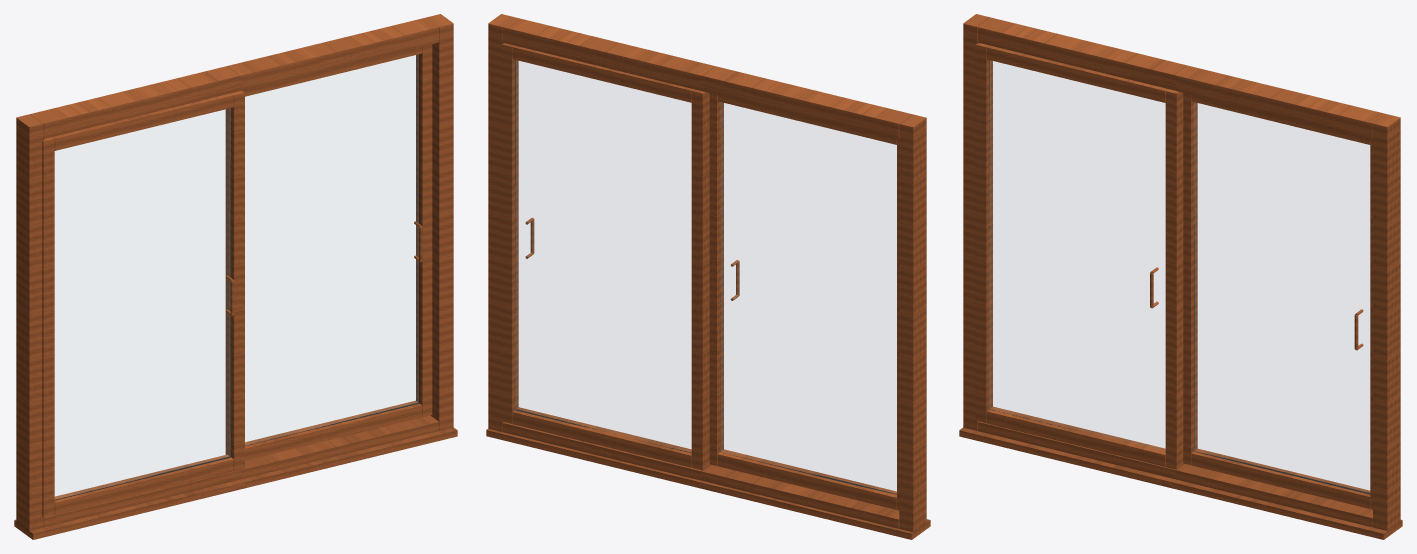
File: wood-finish-sliding-glass-window-06.glb
3 renders of one model, left to right at view 1: azimuth 30°, elevation 25°; view 2: azimuth 150°, elevation 25°; view 3: azimuth 330°, elevation 25°, orthographic.
Visible parts, largest first — view 1: Window / Sliding leaf 1 glass, Window / Sliding leaf 2 glass, Window / Outer jamb, Window / Sliding leaf 1 sash, Window / Sliding leaf 2 sash, Window / Sill extrusion, Window / Sliding leaf 2 glazing gasket, Window / Sliding leaf 1 glazing gasket; view 2: Window / Sliding leaf 1 glass, Window / Sliding leaf 2 glass, Window / Outer jamb, Window / Sliding leaf 2 sash, Window / Sliding leaf 1 sash, Window / Sill extrusion, Window / Sliding leaf 1 glazing gasket; view 3: Window / Sliding leaf 1 glass, Window / Sliding leaf 2 glass, Window / Outer jamb, Window / Sliding leaf 1 sash, Window / Sliding leaf 2 sash, Window / Sill extrusion, Window / Sliding leaf 2 glazing gasket.
Part boxes in pixels (x1,y1,x2,y2): Window / Sliding leaf 1 glass: (55,109,229,498); Window / Sliding leaf 2 glass: (245,55,418,444); Window / Outer jamb: (16,14,453,531); Window / Sliding leaf 1 sash: (42,90,244,517); Window / Sliding leaf 2 sash: (225,44,432,460); Window / Sill extrusion: (14,427,457,539); Window / Sliding leaf 2 glazing gasket: (245,54,419,445); Window / Sliding leaf 1 glazing gasket: (54,108,230,500); Window / Sliding leaf 1 glass: (721,103,896,493); Window / Sliding leaf 2 glass: (516,60,690,451); Window / Outer jamb: (488,14,926,538); Window / Sliding leaf 2 sash: (501,43,709,470); Window / Sliding leaf 1 sash: (709,93,899,510); Window / Sill extrusion: (486,428,930,539); Window / Sliding leaf 1 glazing gasket: (720,103,896,494); Window / Sliding leaf 1 glass: (990,61,1164,450); Window / Sliding leaf 2 glass: (1195,103,1369,492); Window / Outer jamb: (963,14,1400,531); Window / Sliding leaf 1 sash: (975,43,1183,469); Window / Sliding leaf 2 sash: (1183,92,1372,509); Window / Sill extrusion: (959,427,1402,539); Window / Sliding leaf 2 glazing gasket: (1194,119,1370,494).
Bounding box in the file's own units: 1.3 × 1.2 × 0.123.
3 materials, 1 textured.
